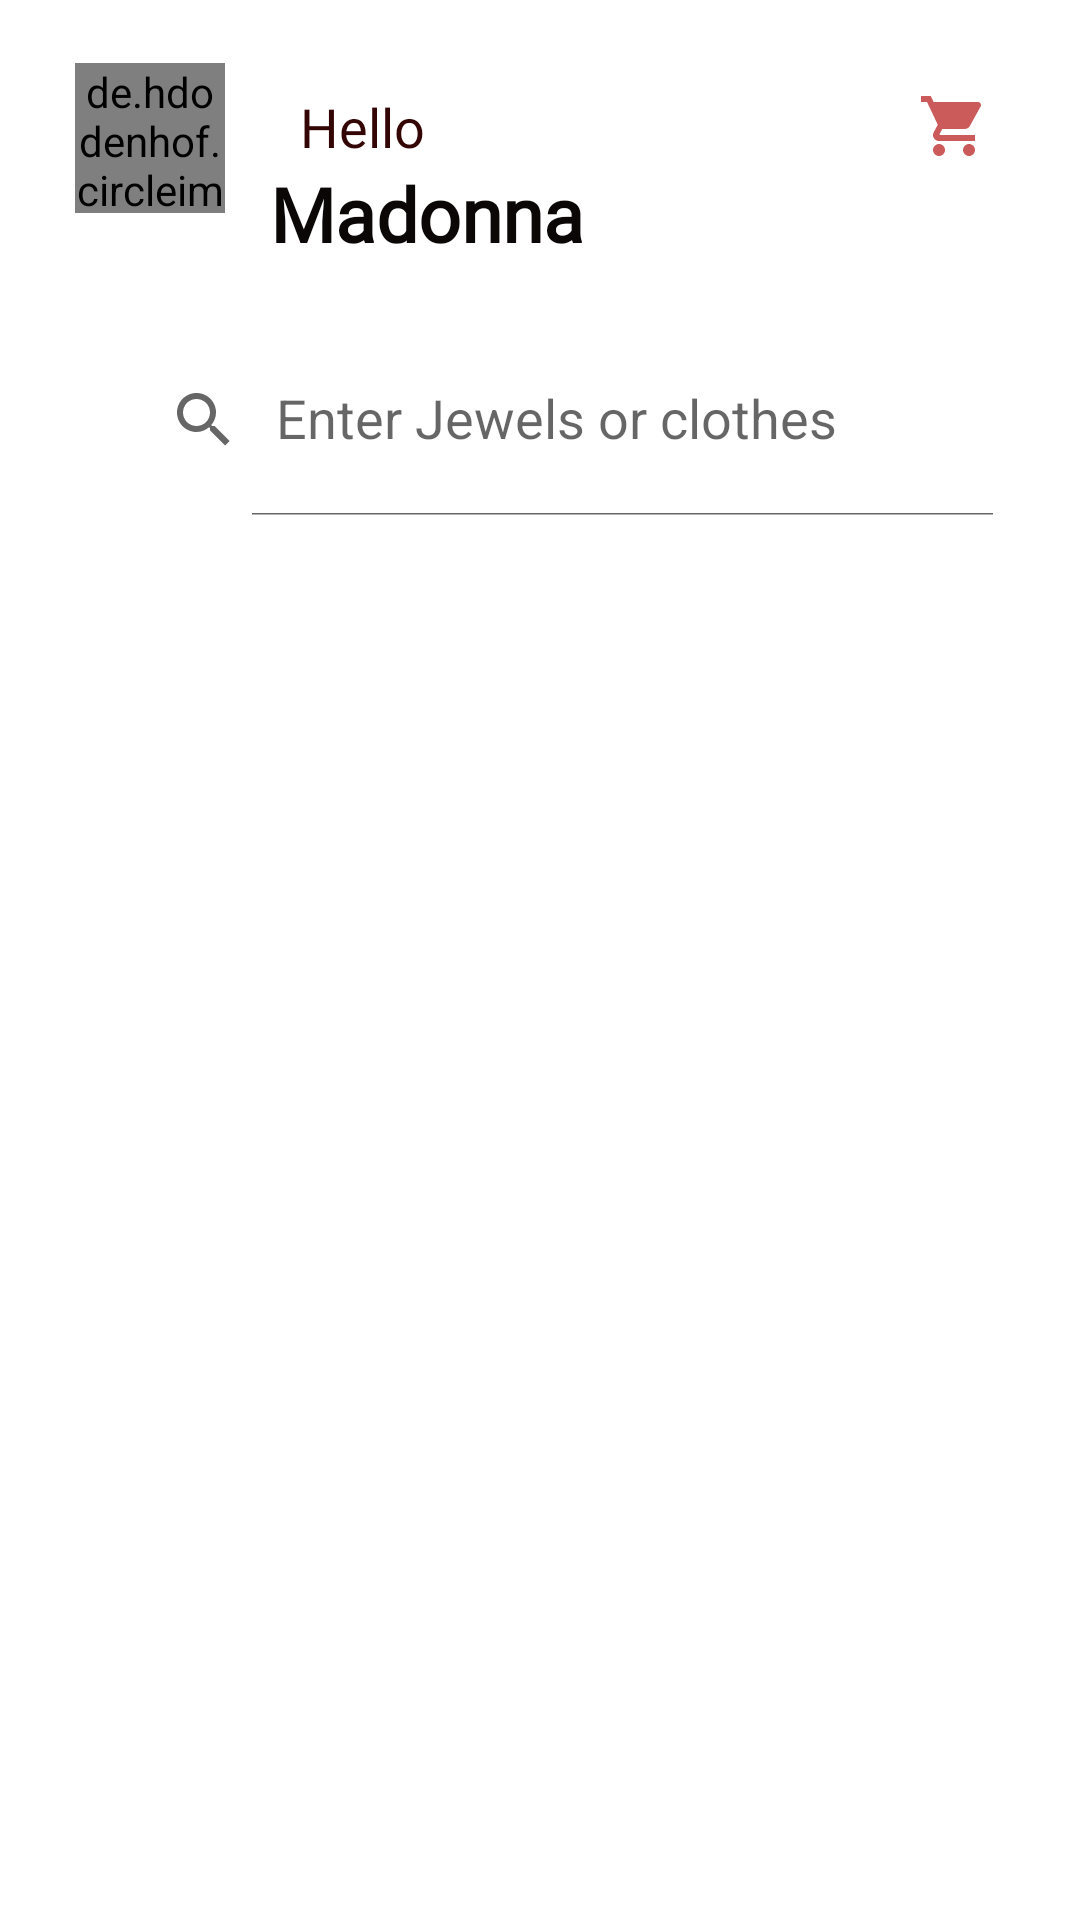

Where icons sit on this 1080*1920 app screen, as (x1, y1, x2, y2):
shopping cart: (921, 96, 981, 156)
